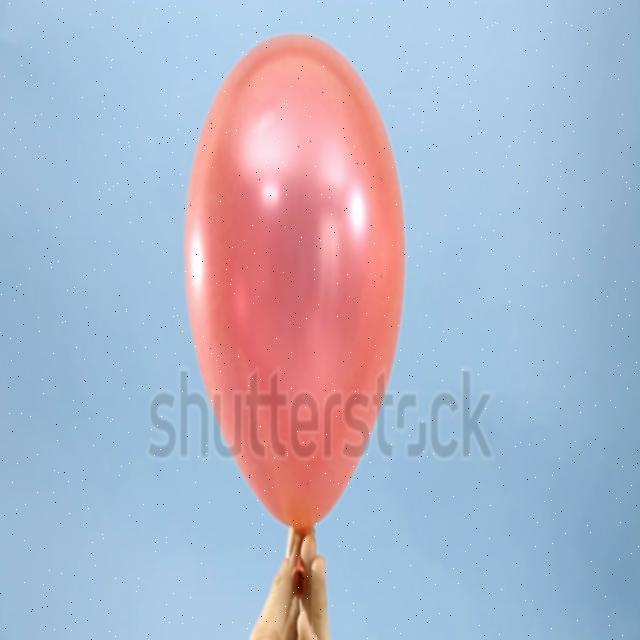red: (182, 32, 406, 589)
